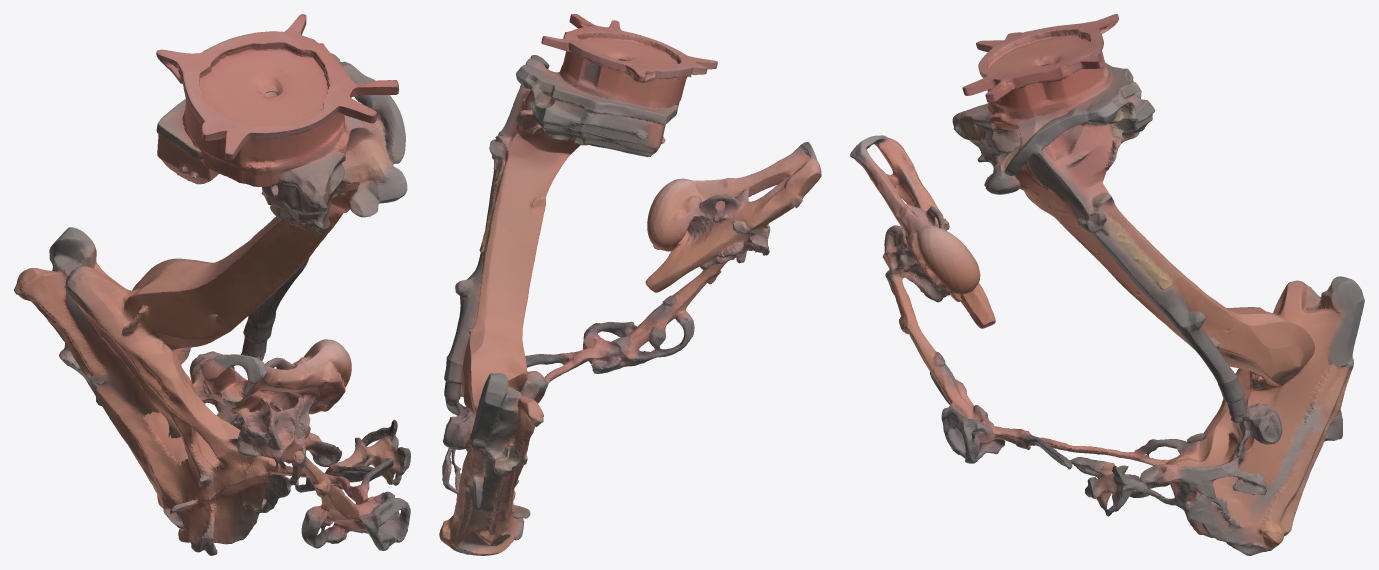
The model's file is robot-multi.glb.
The picture shows the model from 3 angles, left to right: view 1: azimuth 30°, elevation 25°; view 2: azimuth 150°, elevation 25°; view 3: azimuth 270°, elevation 25°; orthographic projection. The views are drawn at different scales.
Parts seen in each view (by area): view 1: geometry_0; view 2: geometry_0; view 3: geometry_0.
Part boxes in pixels (x1,y1,x2,y2): geometry_0: (14,14,410,555); geometry_0: (439,14,821,555); geometry_0: (850,14,1364,555).
Bounding box in the file's own units: 2.3 × 3.82 × 3.66.
